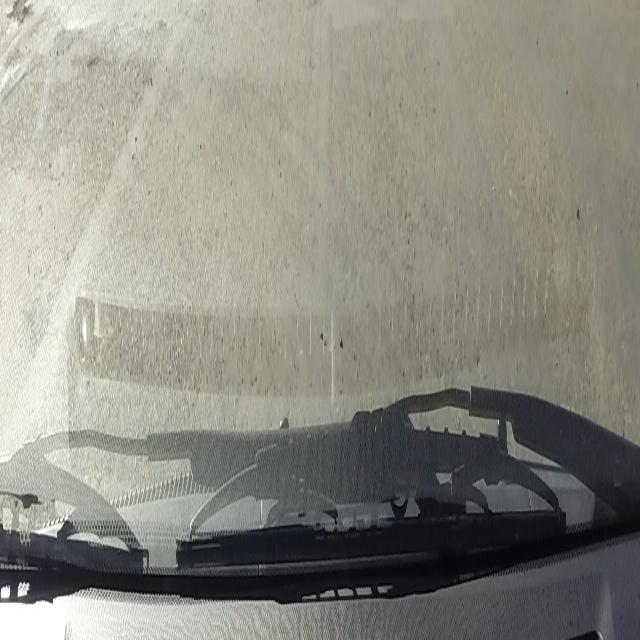pothole: (3, 0, 34, 35)
